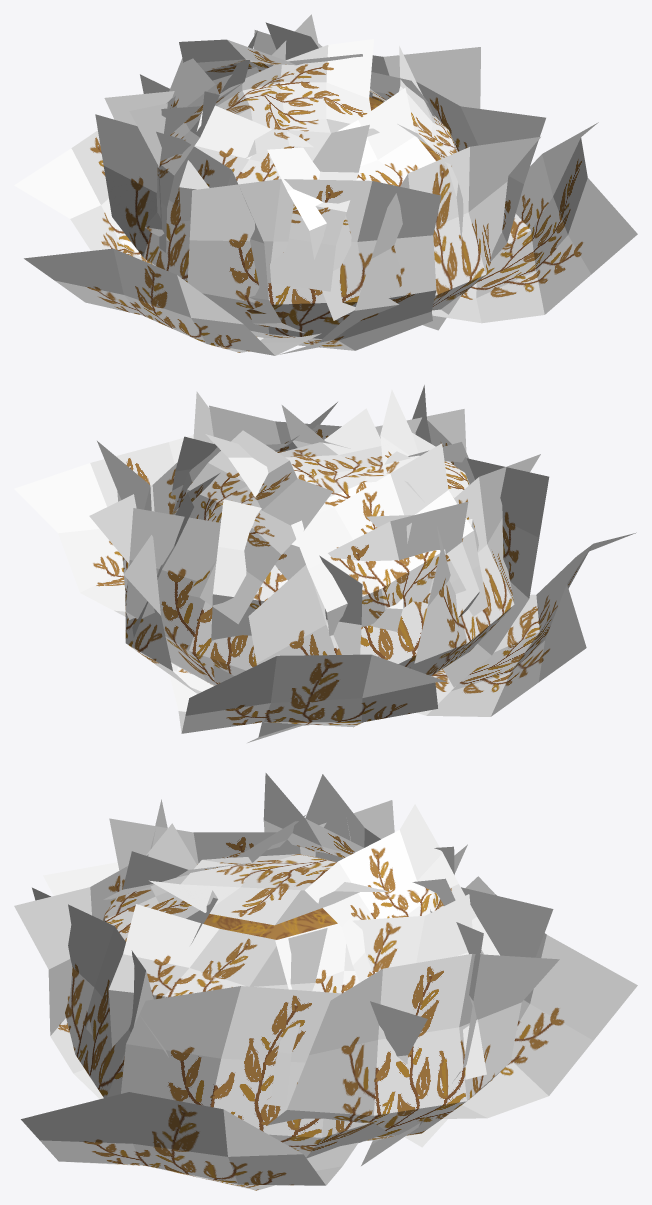
The model's file is Bush_Tall_test2.fbx.
3 views of the same model, one above another, from view 1: azimuth 30°, elevation 25°; view 2: azimuth 150°, elevation 25°; view 3: azimuth 270°, elevation 25° (orthographic). The views are drawn at different scales.
Visible parts, largest first — view 1: Plane.006, Plane.016, Plane.005, Plane.010, Plane, Plane.015, Plane.014, Plane.007, Plane.017, Plane.004, Plane.003, Plane.011 (+6 smaller); view 2: Plane.017, Plane.011, Plane.001, Plane.002, Plane.013, Plane.015, Plane.016, Plane, Plane.006, Plane.014, Plane.012, Plane.003 (+6 smaller); view 3: Plane.003, Plane.004, Plane.016, Plane.008, Plane.017, Plane.013, Plane.005, Plane.009, Plane.014, Plane.006, Plane.001, Plane (+6 smaller).
Boxes of the visible parts, bbox=[...] form: Plane.006: bbox=[187, 179, 441, 350]; Plane.016: bbox=[432, 122, 637, 323]; Plane.005: bbox=[278, 136, 540, 354]; Plane.010: bbox=[179, 105, 369, 291]; Plane: bbox=[95, 114, 319, 341]; Plane.015: bbox=[24, 248, 321, 355]; Plane.014: bbox=[215, 39, 379, 158]; Plane.007: bbox=[267, 87, 435, 320]; Plane.017: bbox=[14, 130, 150, 263]; Plane.004: bbox=[416, 82, 545, 330]; Plane.003: bbox=[254, 30, 480, 108]; Plane.011: bbox=[156, 58, 219, 252]; Plane.017: bbox=[169, 654, 446, 733]; Plane.011: bbox=[291, 443, 487, 635]; Plane.001: bbox=[247, 501, 479, 742]; Plane.002: bbox=[125, 508, 362, 725]; Plane.013: bbox=[185, 430, 333, 624]; Plane.015: bbox=[416, 532, 636, 716]; Plane.016: bbox=[14, 435, 193, 616]; Plane: bbox=[410, 454, 540, 675]; Plane.006: bbox=[412, 385, 549, 687]; Plane.014: bbox=[205, 408, 412, 546]; Plane.012: bbox=[211, 499, 413, 682]; Plane.003: bbox=[97, 441, 201, 693]; Plane.003: bbox=[267, 953, 559, 1141]; Plane.004: bbox=[121, 986, 427, 1158]; Plane.016: bbox=[21, 1092, 358, 1190]; Plane.008: bbox=[108, 904, 327, 1106]; Plane.017: bbox=[442, 876, 637, 1118]; Plane.013: bbox=[305, 804, 499, 982]; Plane.005: bbox=[32, 887, 168, 1097]; Plane.009: bbox=[275, 894, 486, 1121]; Plane.014: bbox=[149, 854, 388, 925]; Plane.006: bbox=[14, 799, 167, 1098]; Plane.001: bbox=[305, 774, 553, 1147]; Plane: bbox=[109, 800, 394, 870].
Bounding box in the file's own units: 726 × 331 × 608.
